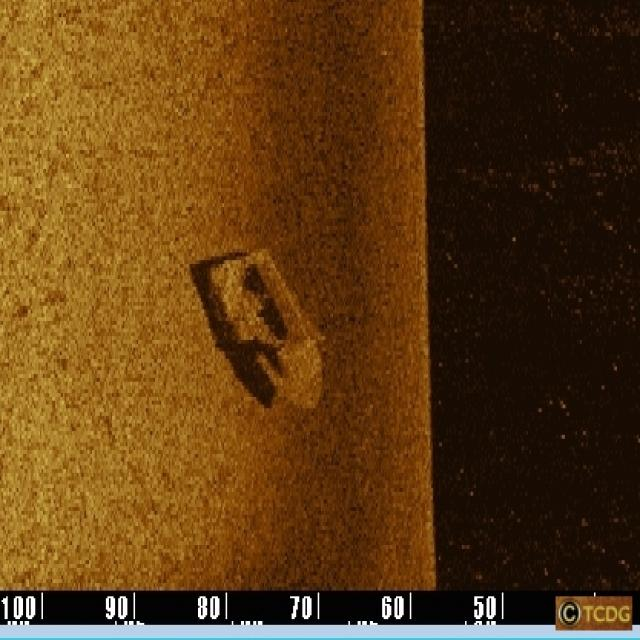ship: (201, 243, 324, 412)
